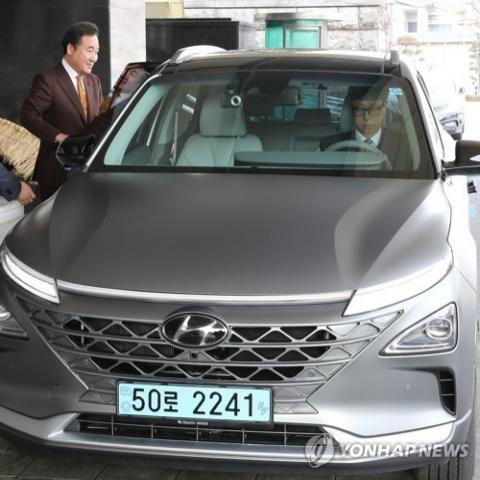LP: (108, 372, 277, 433)
